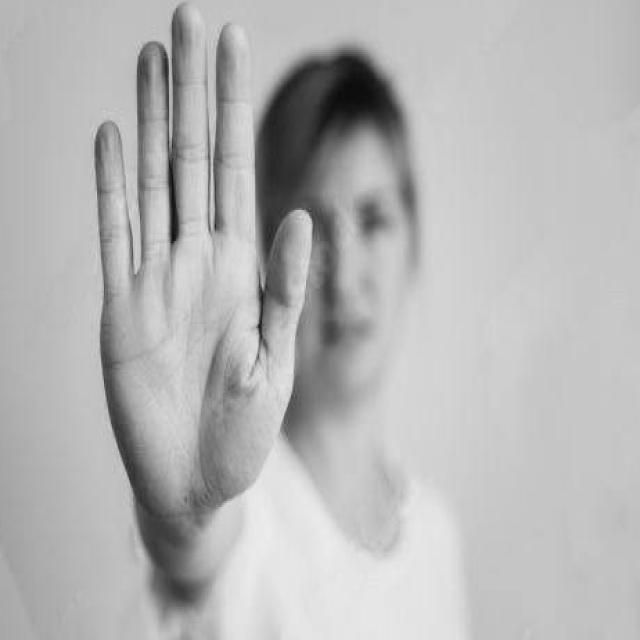stop: (89, 0, 316, 538)
